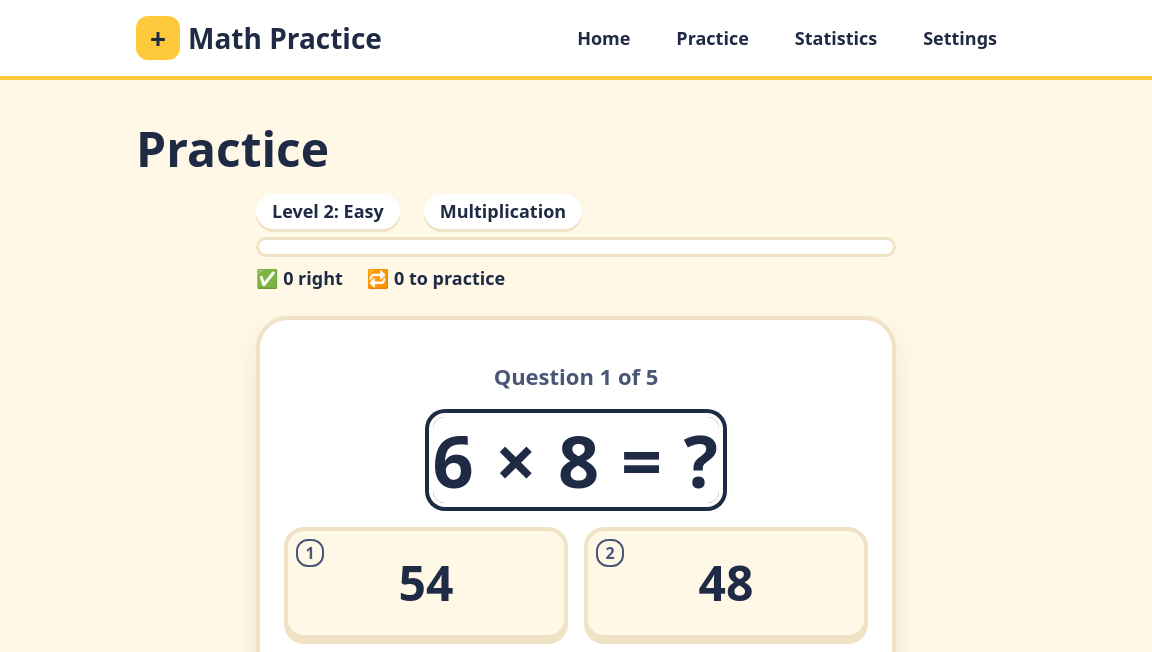
it: leaving an active session › "End and leave" ends the session and goes where the student chose
The width and height of the screenshot is (1152, 652).
Click the button "1 54" at (426, 583), box left=284, top=527, right=568, bottom=639
(page scrolled)
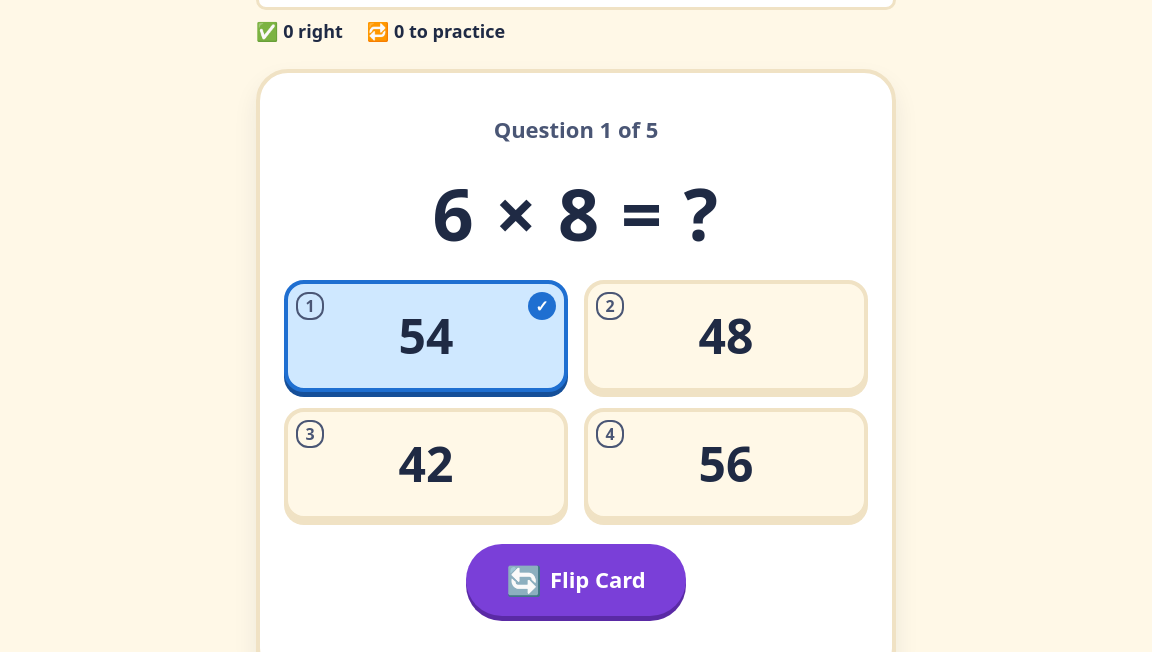
Click the button "🔄 Flip Card" at (576, 580), box left=466, top=544, right=686, bottom=616
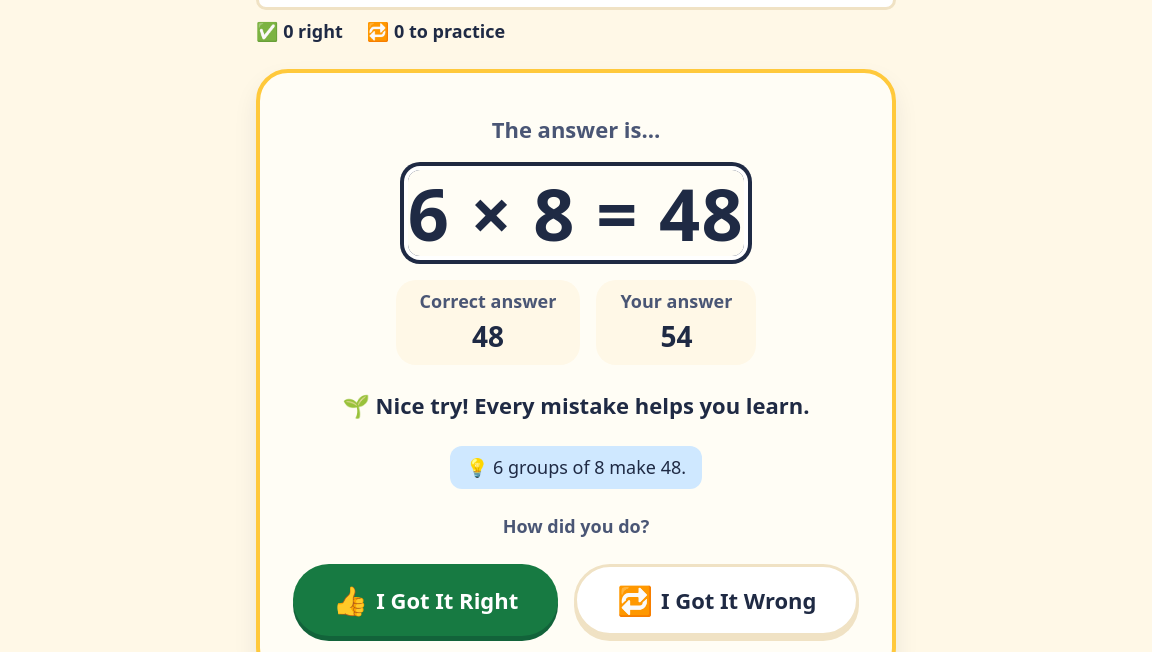
Click the button "👍 I Got It Right" at (425, 600), box left=292, top=564, right=558, bottom=636
(page scrolled)
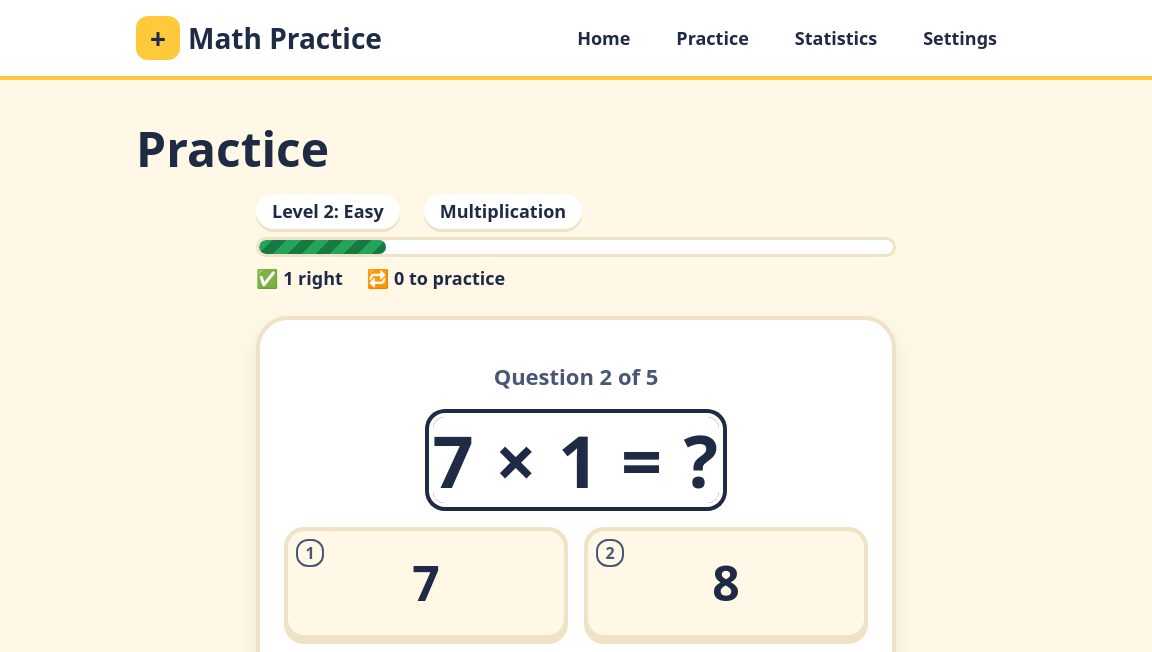
Click the link "Statistics" at (836, 38), box left=795, top=26, right=877, bottom=50
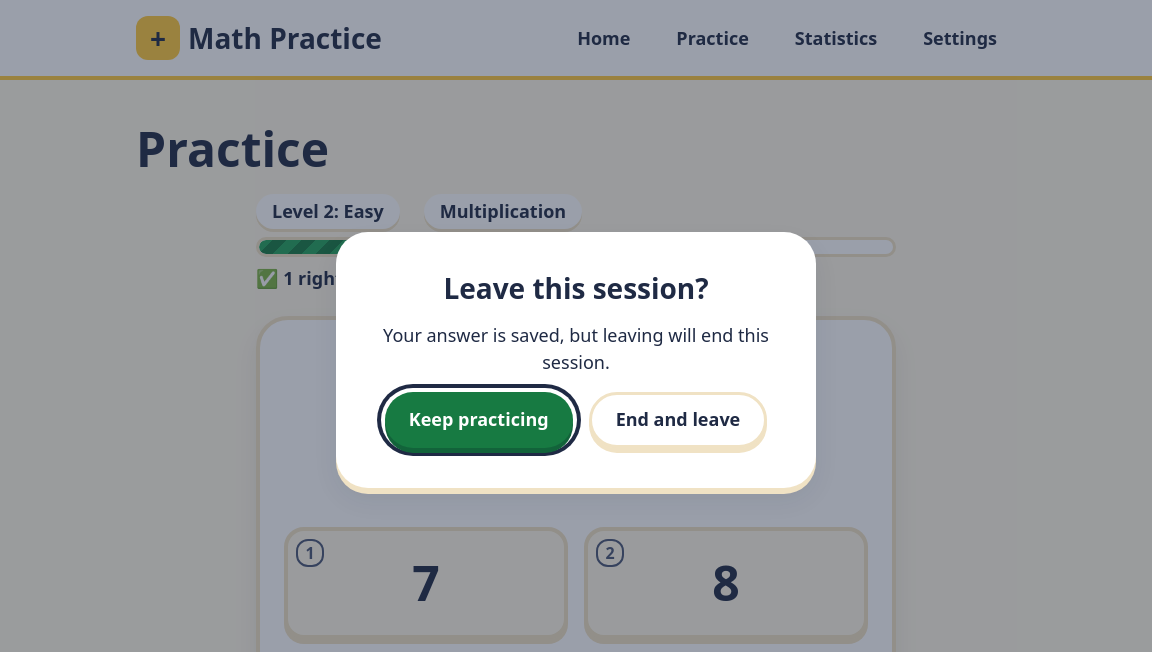
Click the button "End and leave" at (678, 420), box left=589, top=392, right=767, bottom=448
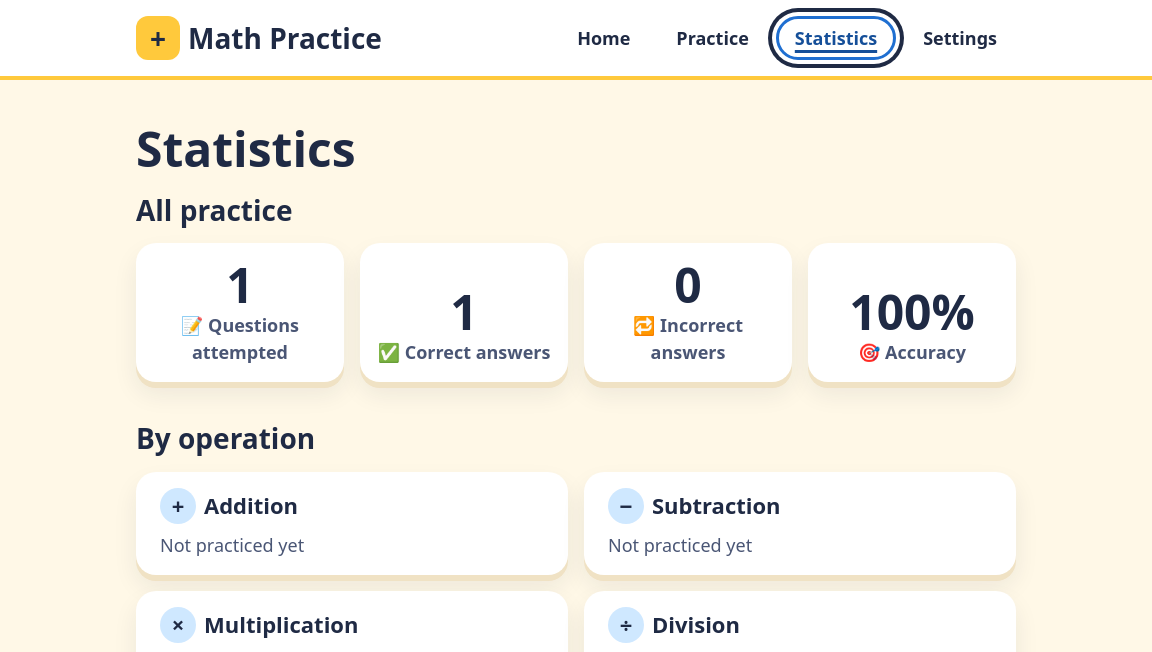
Check: the heading "Statistics" is shown, box left=136, top=116, right=356, bottom=181
